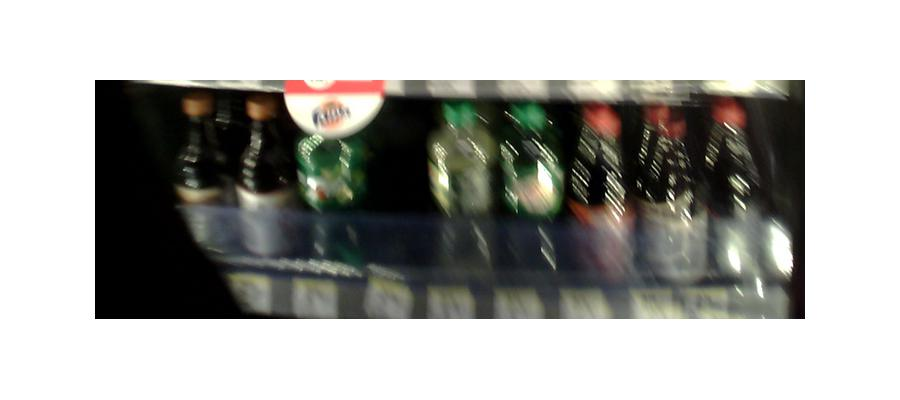bottle: (292, 83, 367, 277), (632, 102, 705, 301), (706, 93, 773, 300), (429, 95, 494, 295), (569, 102, 628, 291), (234, 91, 295, 271), (175, 90, 232, 276), (502, 109, 563, 282)
